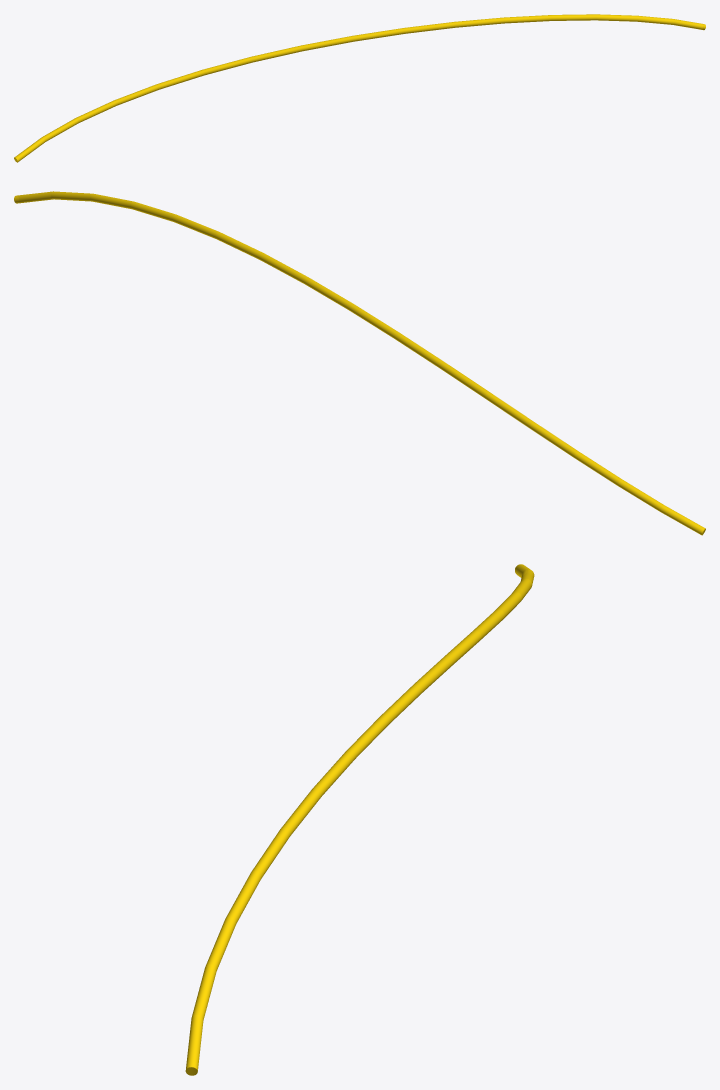
File: Event_420094457_track_67.fbx
3 renders of one model, top to bottom at view 1: azimuth 30°, elevation 25°; view 2: azimuth 150°, elevation 25°; view 3: azimuth 270°, elevation 25°, orthographic. The views are drawn at different scales.
Parts seen in each view (by area): view 1: Model; view 2: Model; view 3: Model.
Part boxes in pixels (x1,y1,x2,y2): Model: [14, 14, 705, 162]; Model: [14, 191, 705, 535]; Model: [185, 564, 534, 1075].
Size of the model in its own units: 4.6 by 0.6029 by 1.14.
